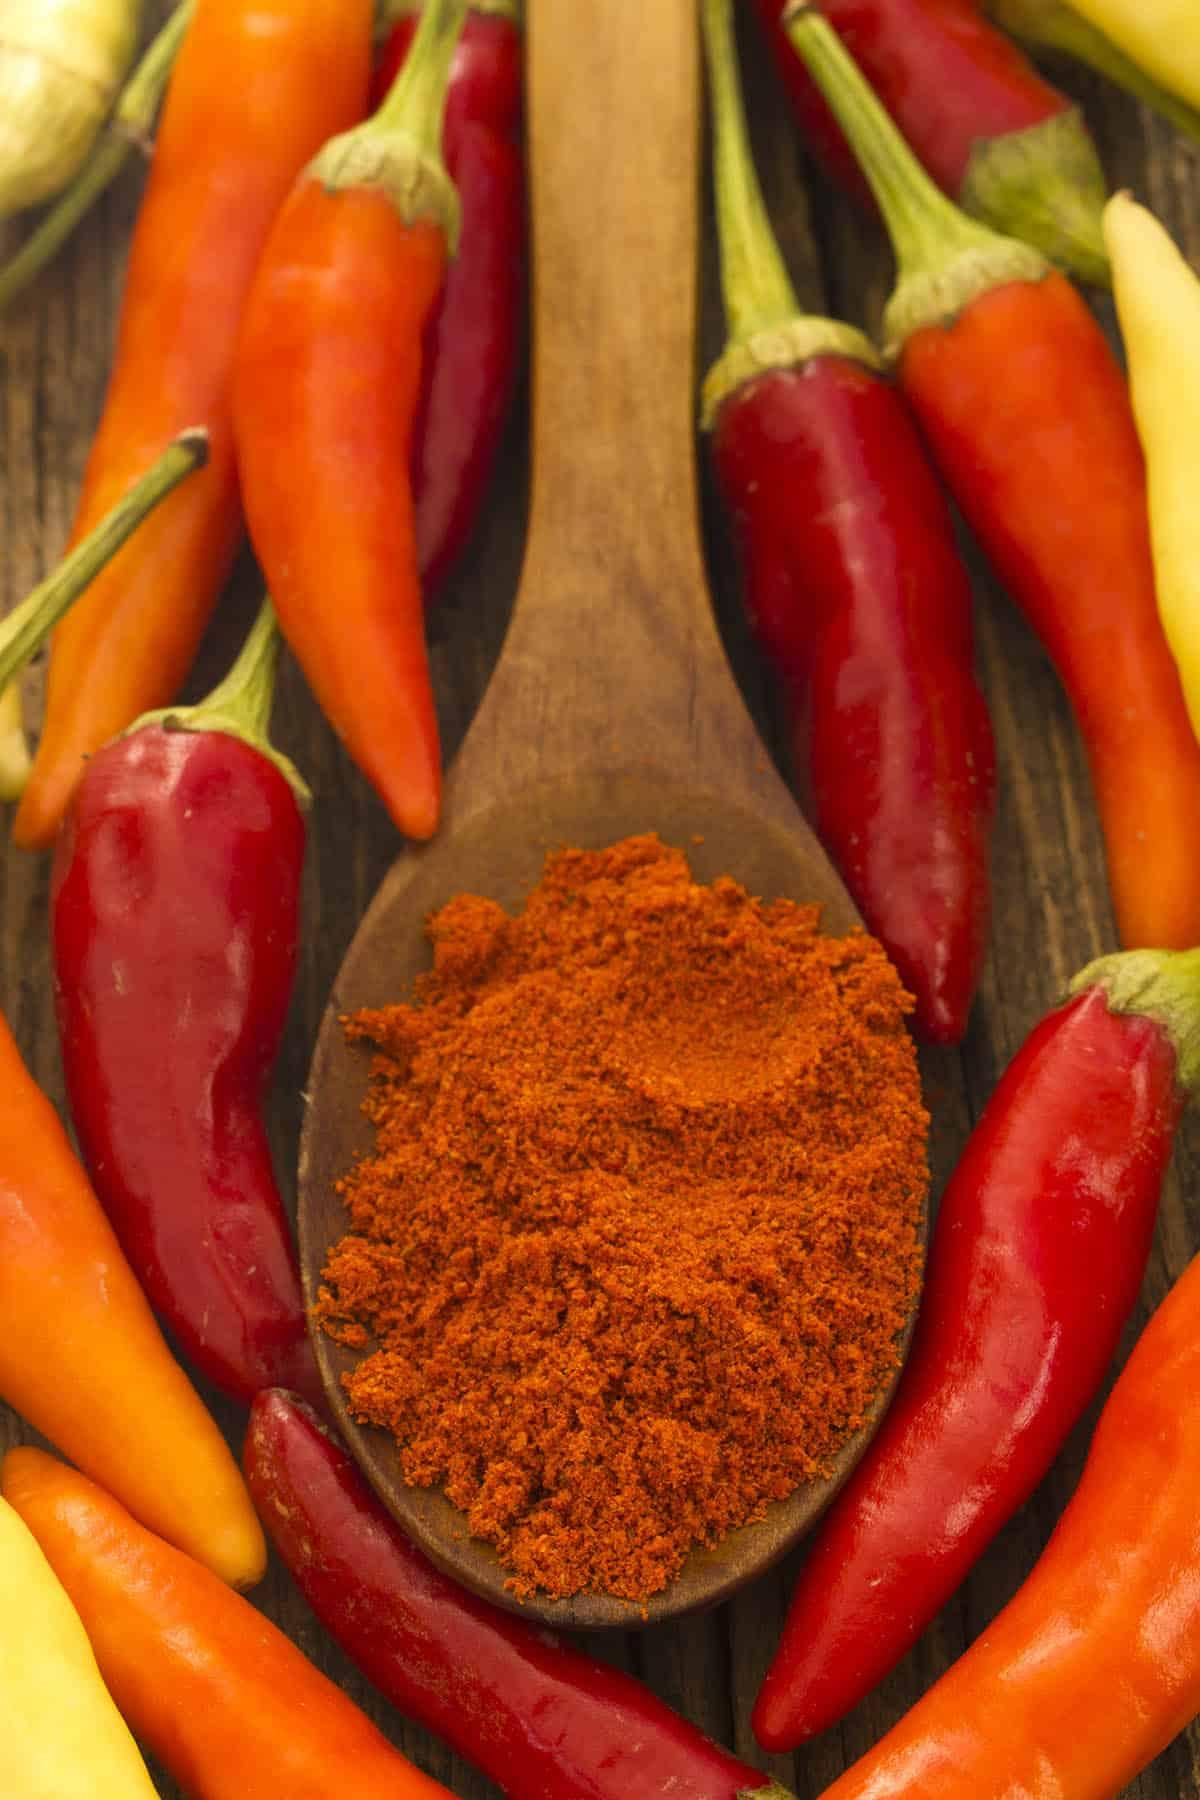paprika: (3, 3, 1196, 1793), (309, 826, 935, 1614), (778, 1, 1199, 952), (746, 943, 1196, 1757), (695, 0, 998, 1045), (12, 0, 376, 850), (238, 1383, 796, 1796), (47, 595, 317, 1405), (229, 1, 470, 842), (1, 1442, 462, 1796), (1, 1008, 269, 1592), (1098, 183, 1197, 745), (0, 1492, 161, 1797)
